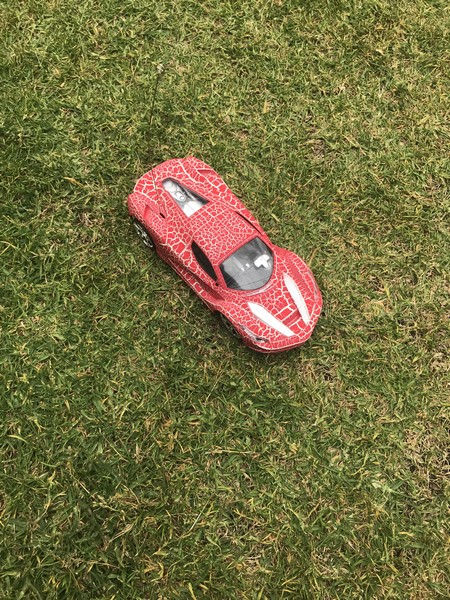RC: (123, 156, 323, 354)
